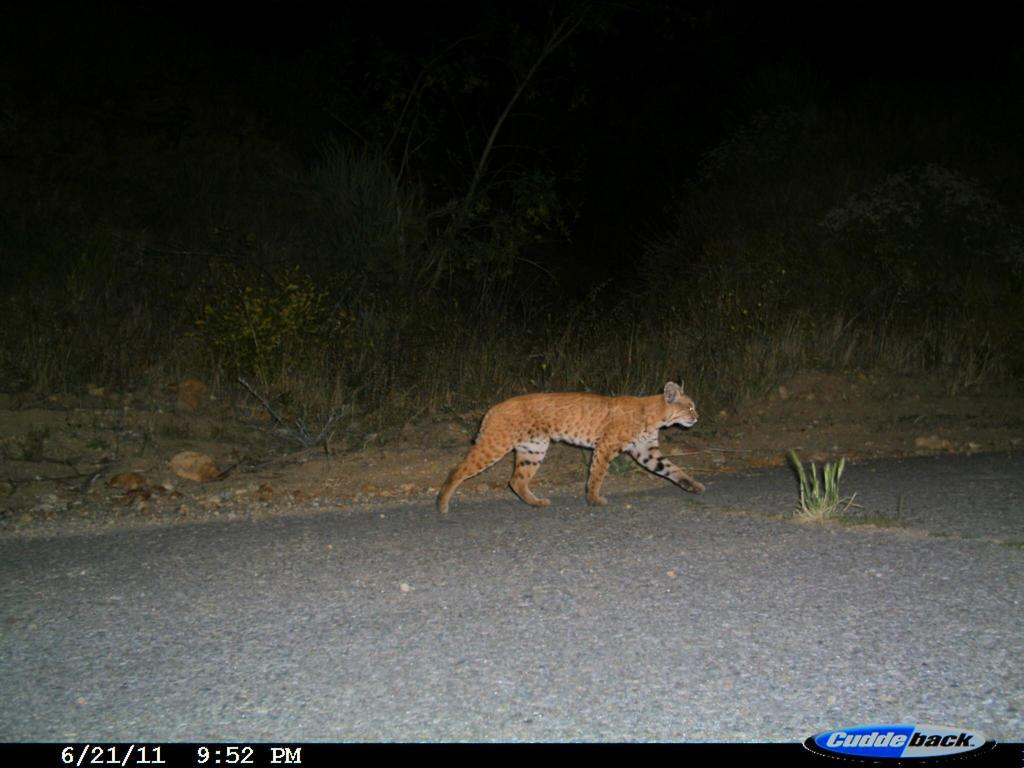bobcat: (427, 370, 715, 525)
